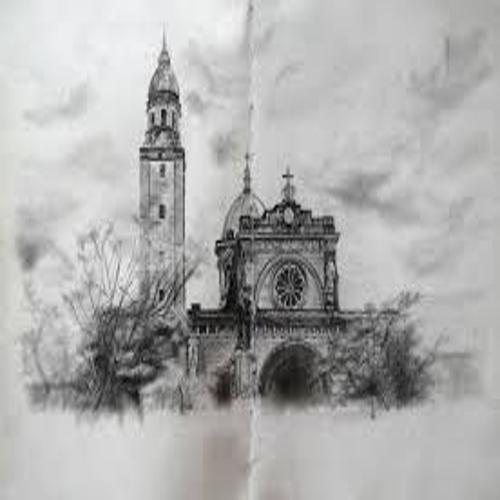Manila Cathedral Church: (105, 24, 412, 409)
